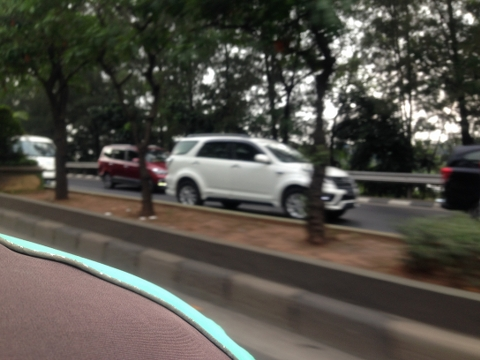mobil: (163, 133, 360, 219), (97, 144, 171, 190)
